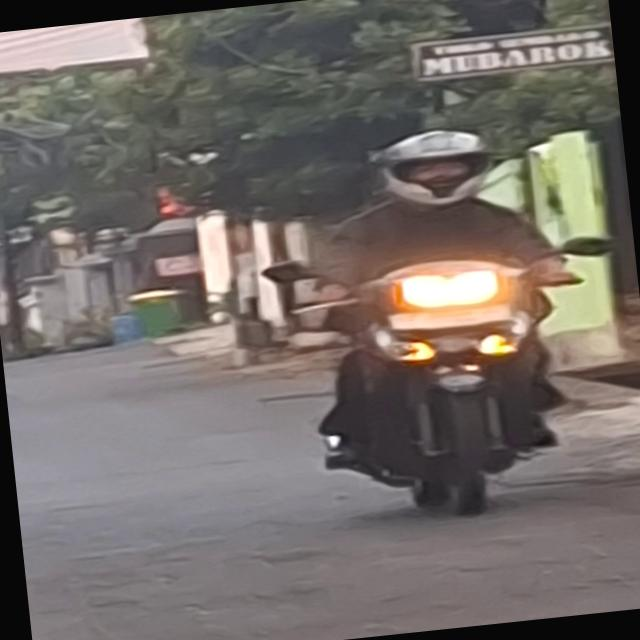WithHelmet: (287, 115, 601, 532)
